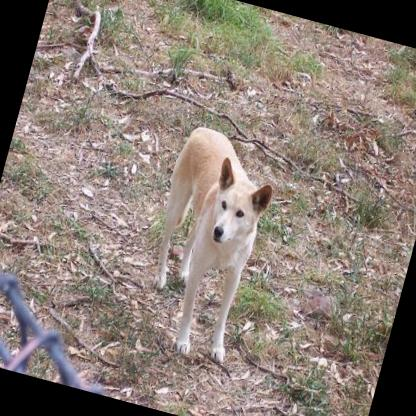dingo: (127, 119, 284, 367)
